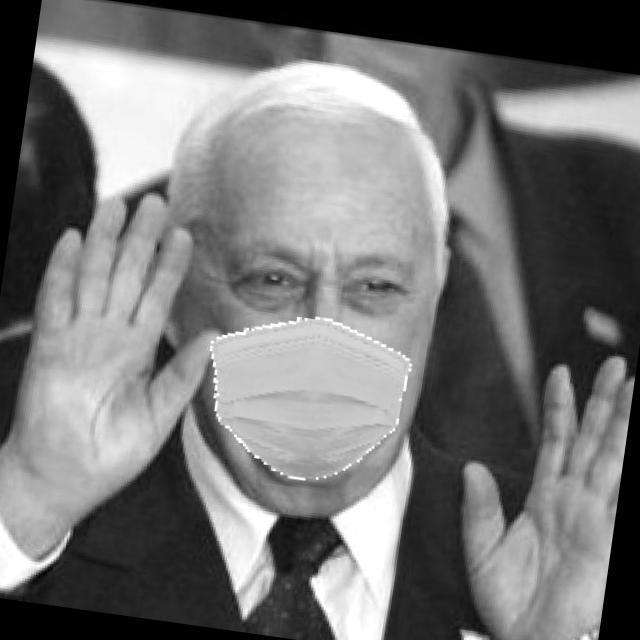mask: (207, 322, 402, 490)
no_apron: (6, 187, 208, 575), (454, 330, 640, 639), (348, 501, 391, 536)
no_gloves: (190, 60, 422, 180)
